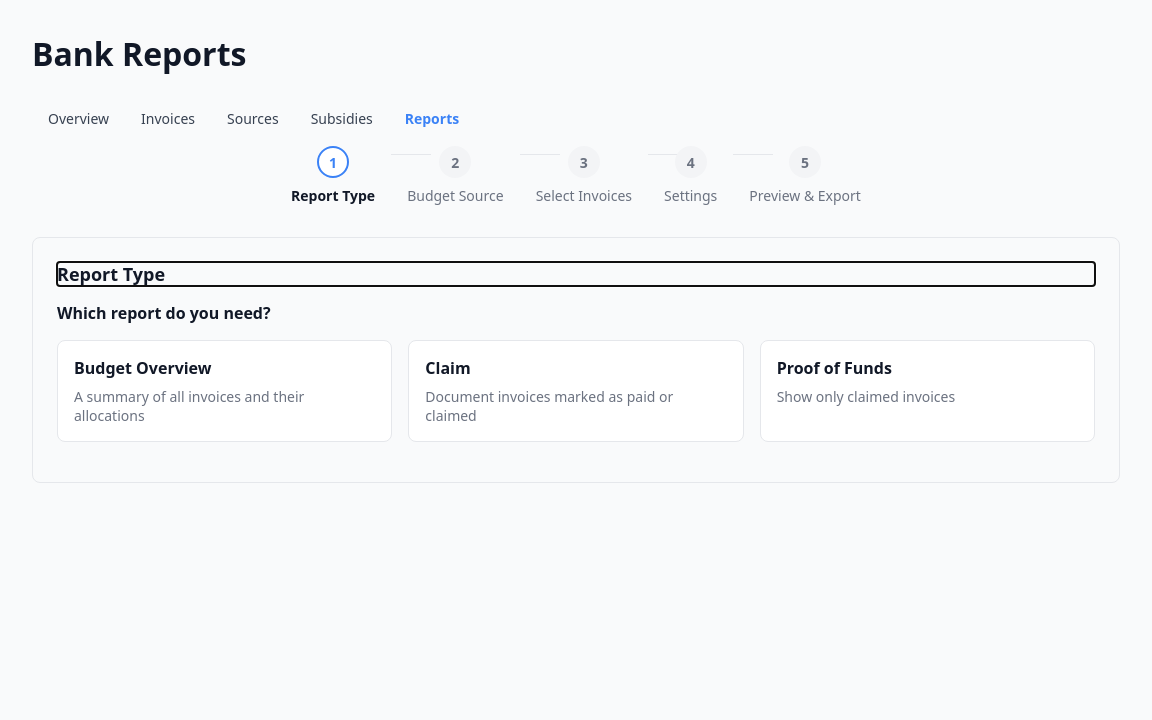
Test case: ReportWizardPage › shows an error banner and can retry the step-3 report fetch after it fails
The width and height of the screenshot is (1152, 720).
Expected: the element named "Which report do you need?" is shown, 57,340 -> 1095,442
Click the radio button labelled "Claim Document invoices marked as paid or claimed": (576, 391) 408,340 -> 744,442
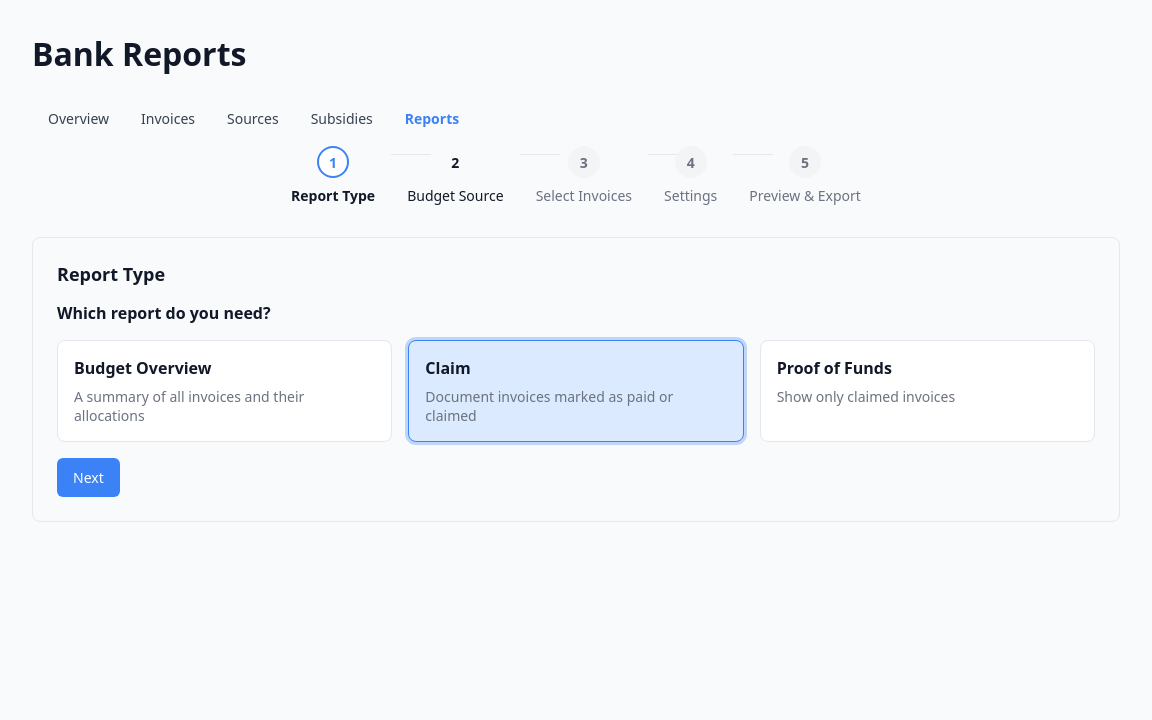
Click the button "Next": (88, 478) 57,458 -> 120,497
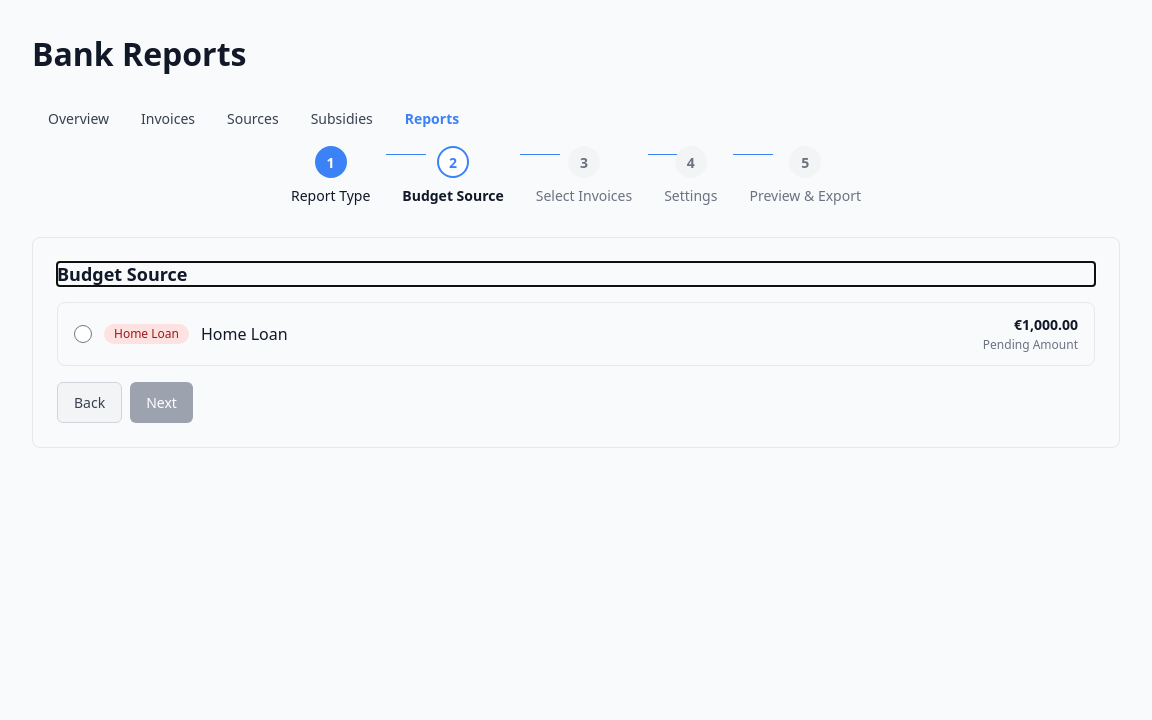
Click the radio button: (83, 334) 74,325 -> 92,343
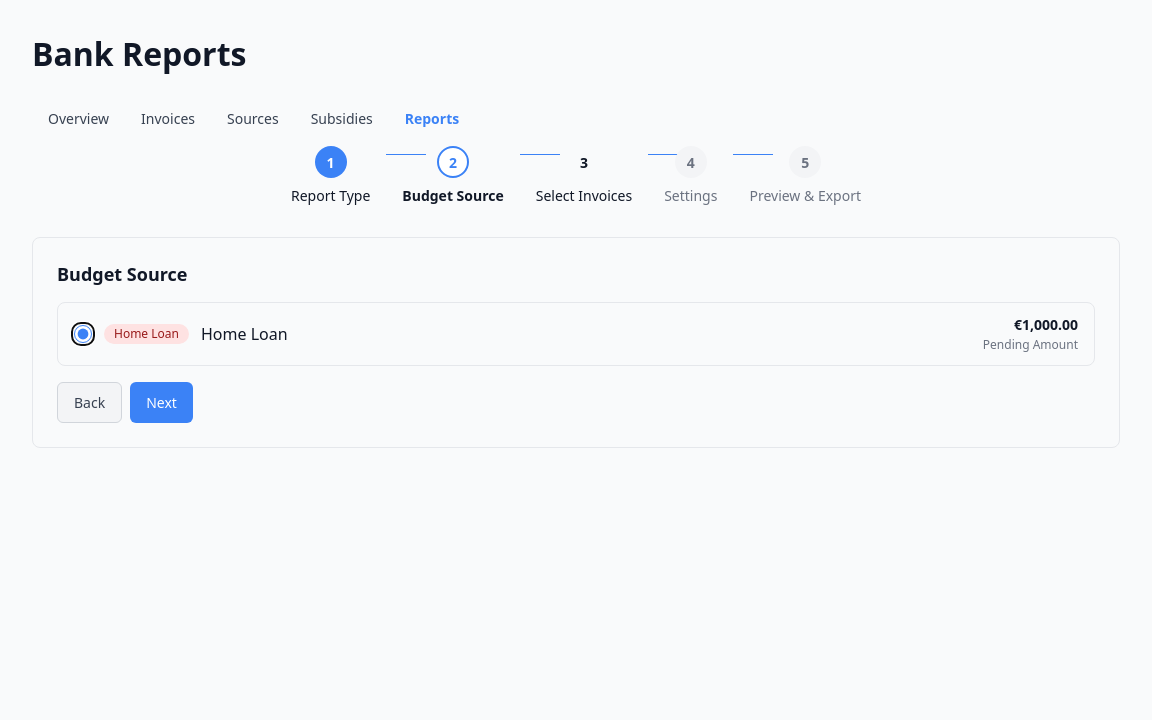
Now the button "Next" is enabled
Click the button "Next": (162, 402) 130,382 -> 193,423
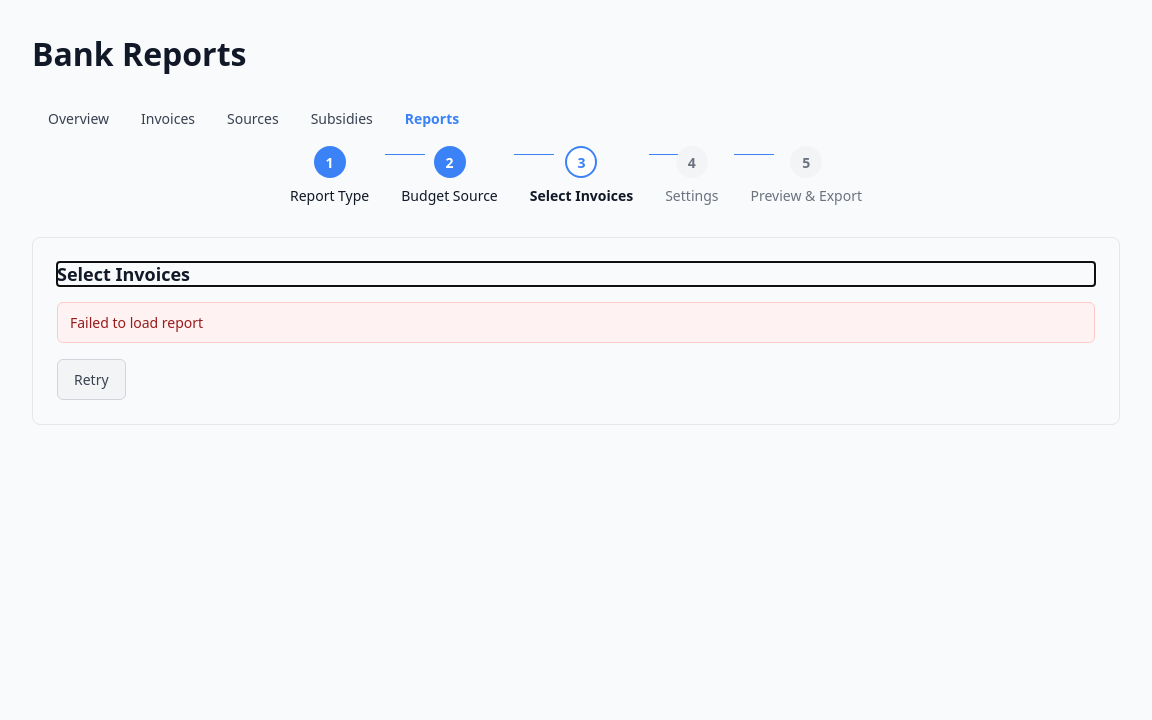
Now the text "Failed to load report" is shown, box 57,302 -> 1095,343
Click the button "Retry": (91, 380) 57,359 -> 126,400
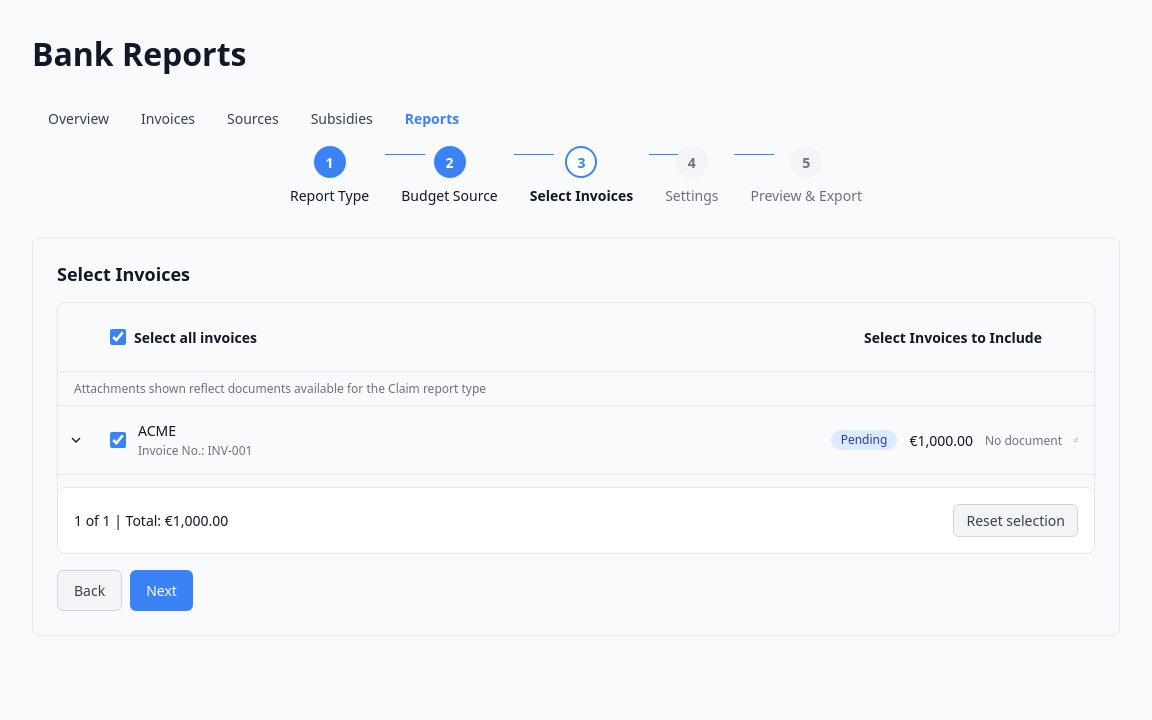
Now the text "ACME" is shown, box 138,421 -> 176,440
